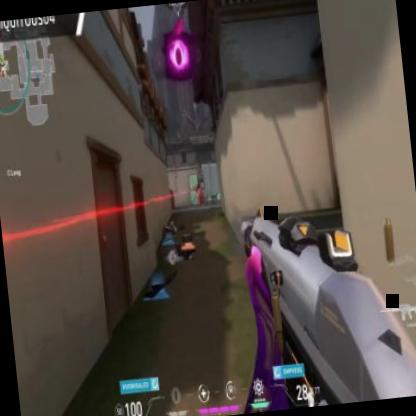enemy: (196, 186, 202, 205), (201, 188, 206, 204)
enemy_head: (196, 184, 199, 190), (202, 187, 204, 192)
